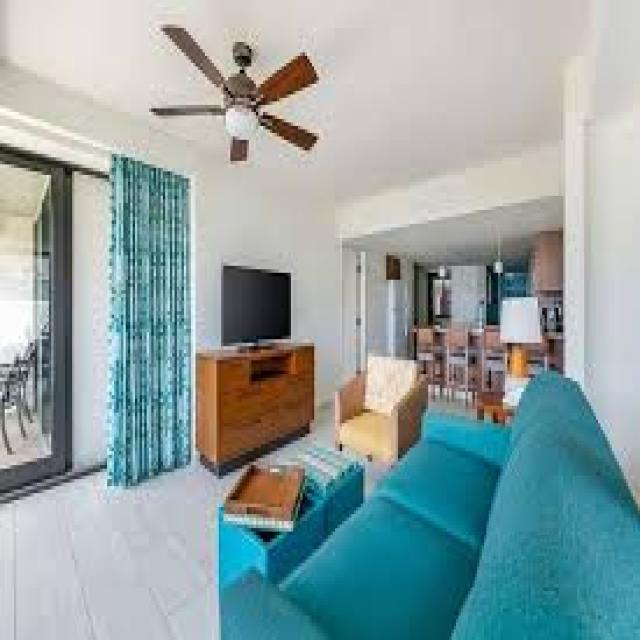Chair: (332, 351, 423, 461)
Sofa: (221, 374, 638, 640)
Table: (203, 437, 364, 526)
tv: (220, 264, 293, 344)
window: (4, 156, 192, 476)
